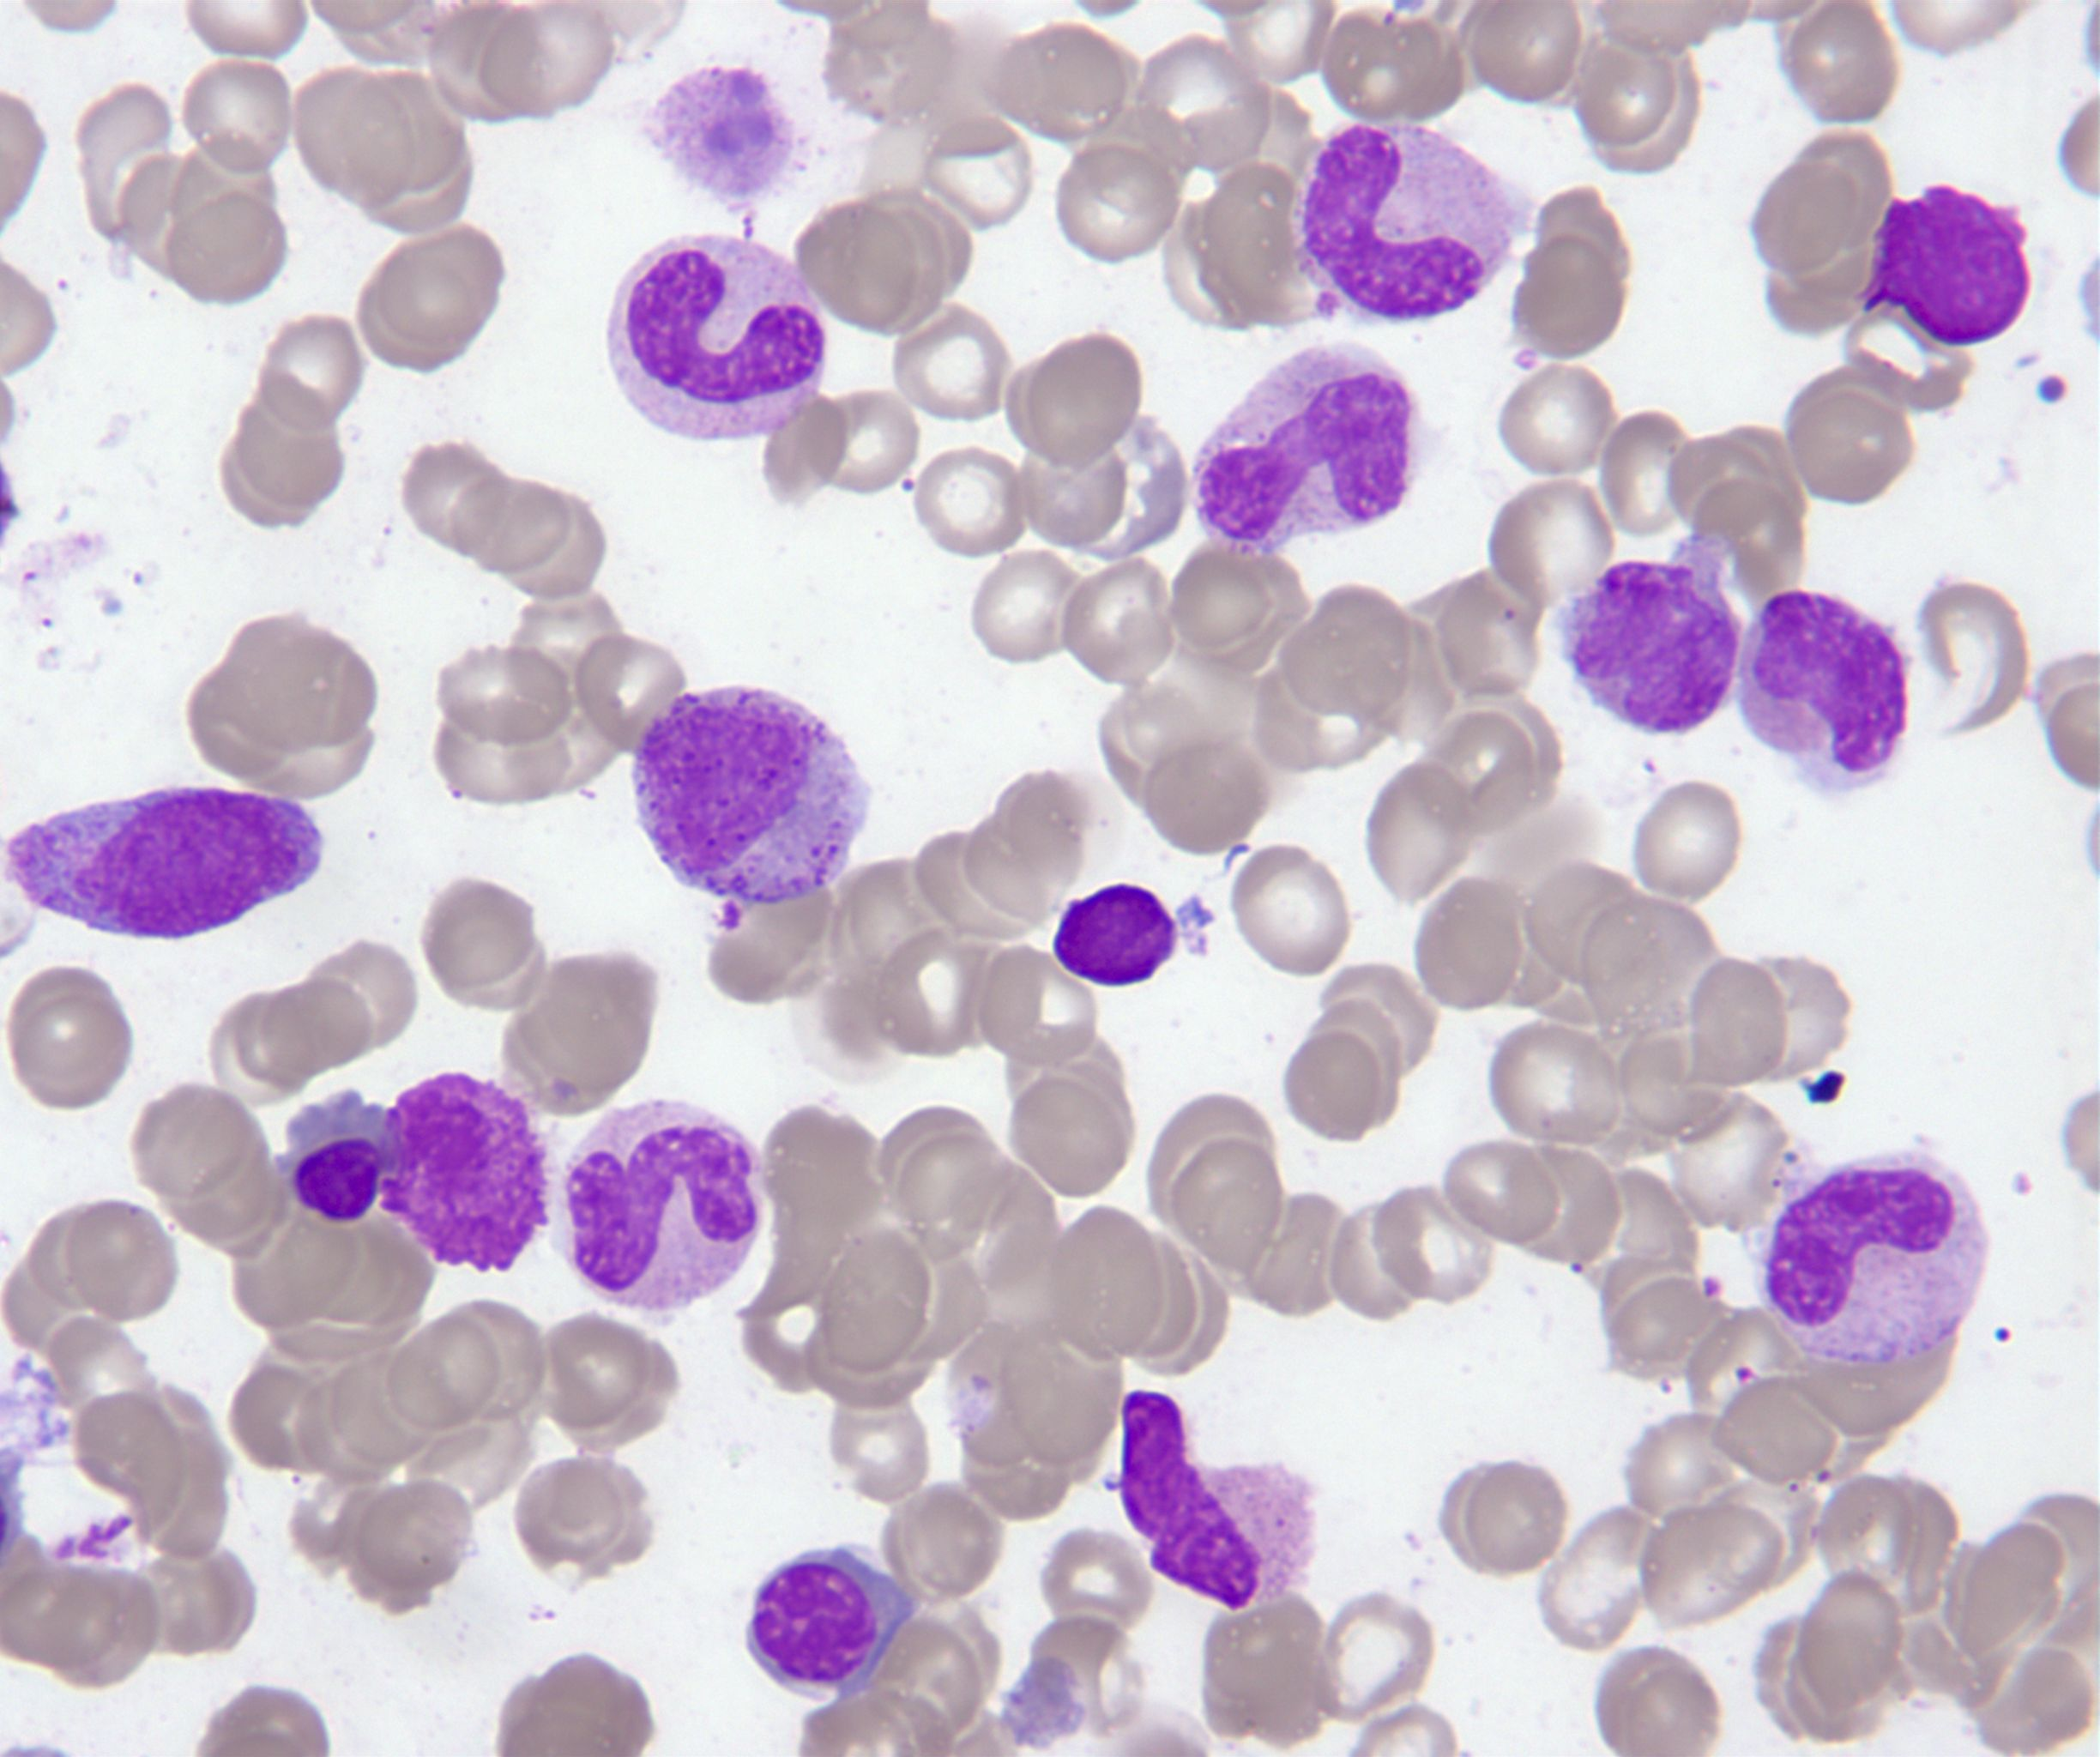24: (738, 1542, 928, 1710), (270, 1085, 382, 1225)
3: (630, 679, 874, 913), (0, 780, 324, 947)
32: (1045, 879, 1188, 996)
4: (1538, 553, 1742, 743), (1735, 586, 1913, 794)
5: (1746, 1143, 1997, 1371), (1184, 335, 1427, 567), (1291, 105, 1530, 332), (551, 1094, 771, 1326), (598, 230, 830, 445)
x: (373, 1068, 553, 1281)
